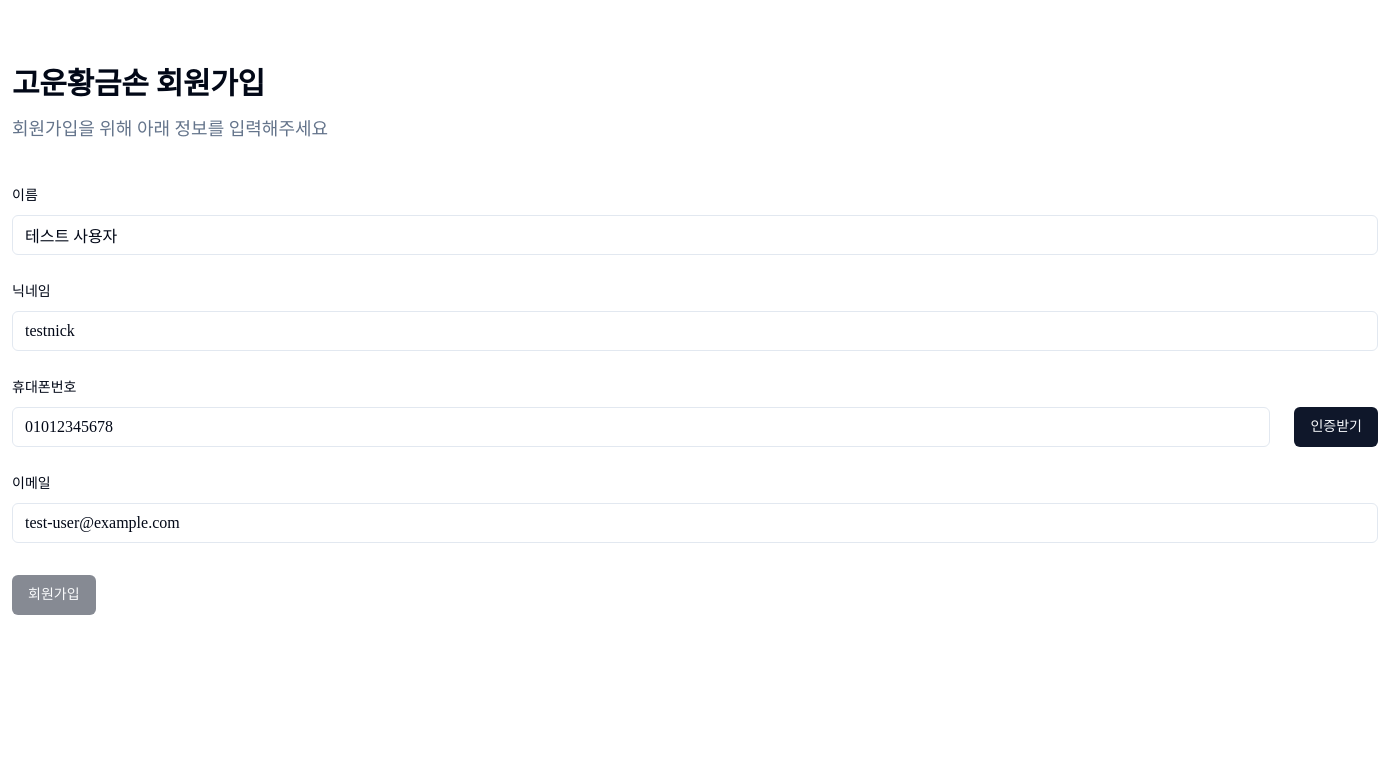
SignupPage 컴포넌트 테스트 › [휴대폰인증] 인증번호 발송 실패 시 에러 메시지 노출
This screenshot has width=1390, height=768.
Click the button "인증받기": (1336, 427) [1294,407,1378,447]
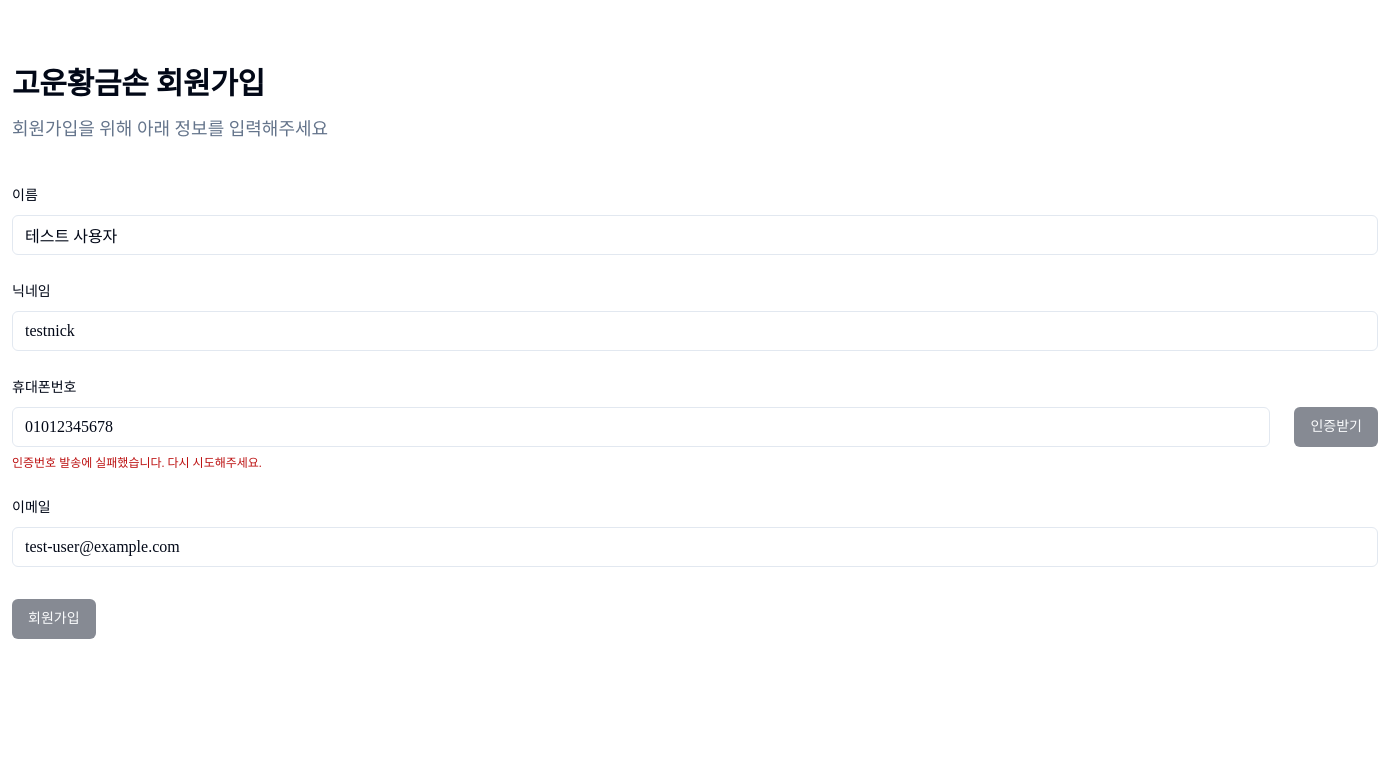
expect the text "인증번호 발송에 실패했습니다. 다시 시도해주세요." is shown: met, box [12,456,262,470]
